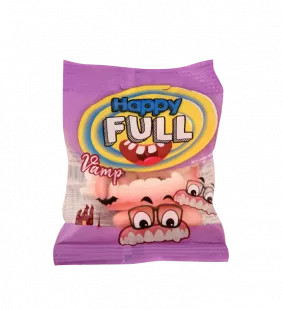HAPPY FULL: (43, 51, 237, 277)
